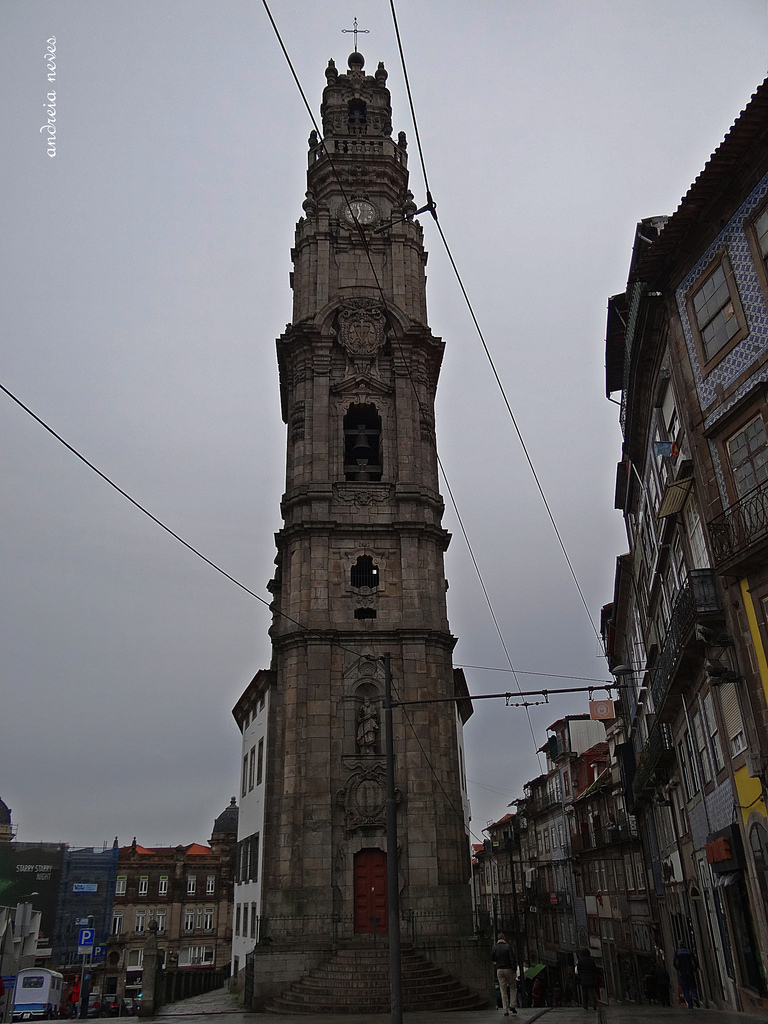clerigos: (260, 14, 485, 952)
